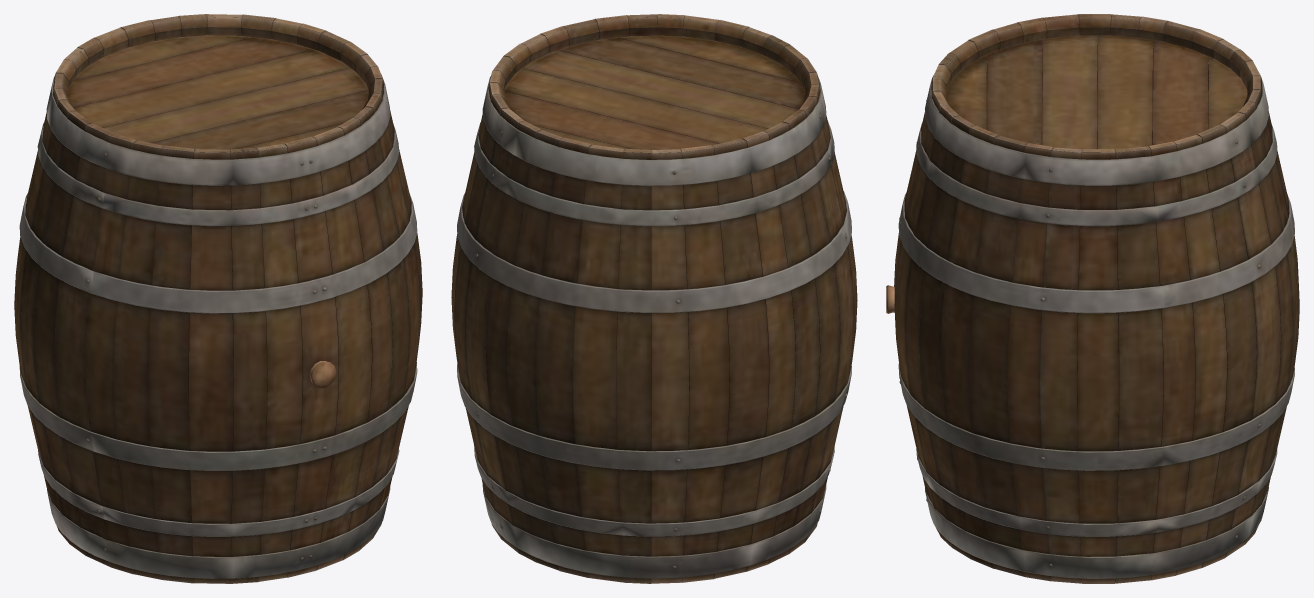
Rendered from barril_vinho.glb.
The picture shows the model from 3 angles, left to right: view 1: azimuth 30°, elevation 25°; view 2: azimuth 150°, elevation 25°; view 3: azimuth 270°, elevation 25°; orthographic projection.
Visible parts, largest first — view 1: barril_vinho; view 2: barril_vinho; view 3: barril_vinho.
Part boxes in pixels (bbox=[...]): barril_vinho: bbox=[14, 14, 422, 583]; barril_vinho: bbox=[451, 14, 857, 583]; barril_vinho: bbox=[886, 14, 1299, 583].
Bounding box in the file's own units: 0.7419 × 0.8713 × 0.756.
Materials: 1 (1 with a texture image).
